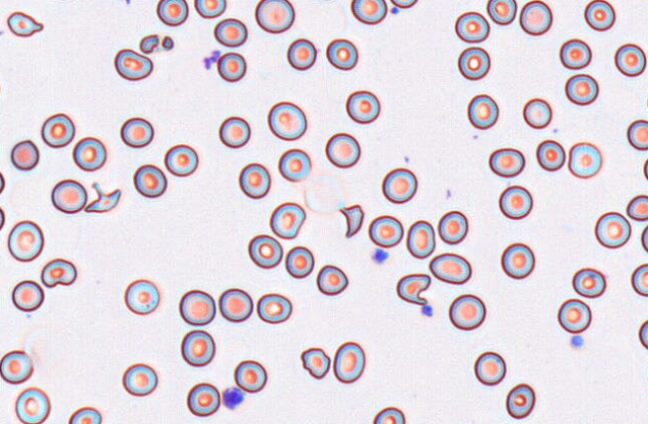PLT: (223, 386, 244, 411), (371, 248, 390, 266), (567, 333, 586, 351), (420, 301, 436, 320)
RBC: (7, 219, 44, 262), (267, 101, 306, 140), (448, 293, 486, 330), (332, 341, 365, 383), (428, 252, 471, 284), (594, 211, 631, 248), (14, 386, 50, 423), (178, 289, 215, 325), (123, 278, 159, 315), (254, 0, 294, 33), (381, 167, 417, 203), (567, 141, 602, 178), (50, 178, 87, 213), (500, 242, 535, 279), (180, 329, 215, 366), (40, 112, 75, 148), (325, 132, 360, 168), (247, 233, 283, 268), (113, 48, 152, 80), (218, 287, 253, 322), (121, 362, 157, 396), (133, 163, 167, 198), (0, 349, 34, 384), (368, 214, 403, 248), (557, 298, 591, 333), (186, 382, 220, 417), (72, 136, 106, 171), (345, 89, 380, 123), (498, 185, 532, 219), (233, 359, 267, 393), (519, 0, 552, 35), (238, 162, 270, 198), (406, 219, 435, 258), (164, 143, 198, 176), (278, 148, 311, 182), (457, 46, 490, 80), (473, 351, 506, 385), (454, 11, 489, 43), (564, 73, 599, 105), (256, 292, 292, 323), (467, 93, 498, 129), (488, 147, 525, 177), (119, 116, 153, 148), (614, 43, 646, 77), (571, 267, 606, 298), (505, 383, 535, 419), (11, 279, 44, 311), (325, 38, 358, 70), (218, 115, 250, 148), (437, 210, 468, 244), (213, 17, 247, 47), (559, 38, 591, 69), (284, 245, 314, 278), (584, 0, 615, 31), (535, 139, 565, 171), (286, 38, 316, 70), (522, 97, 552, 128), (216, 51, 246, 82), (10, 139, 39, 170), (350, 0, 387, 24), (156, 0, 188, 26), (486, 0, 517, 25), (626, 119, 648, 150), (626, 194, 648, 221), (194, 0, 226, 18), (68, 406, 101, 423), (631, 263, 648, 296), (372, 406, 405, 423), (638, 319, 648, 350), (389, 0, 418, 8), (641, 223, 648, 253), (644, 356, 648, 391), (0, 204, 5, 231), (643, 155, 648, 181), (0, 170, 5, 195), (0, 76, 3, 112), (45, 0, 81, 3), (306, 0, 340, 3), (646, 89, 648, 114)
Schistocyte: (269, 201, 308, 239), (395, 270, 434, 306), (84, 182, 120, 216), (40, 257, 78, 289), (300, 346, 331, 380), (6, 12, 45, 38), (337, 204, 364, 239), (138, 34, 159, 53), (161, 35, 175, 52)
